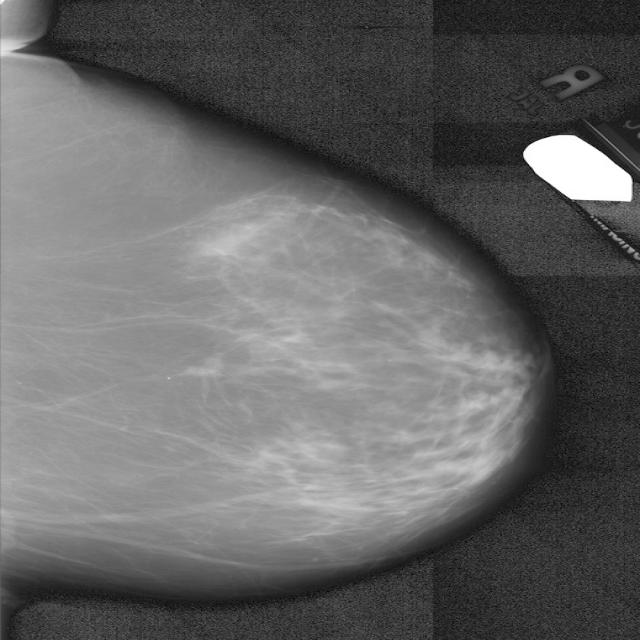tumour: (182, 354, 224, 378)
